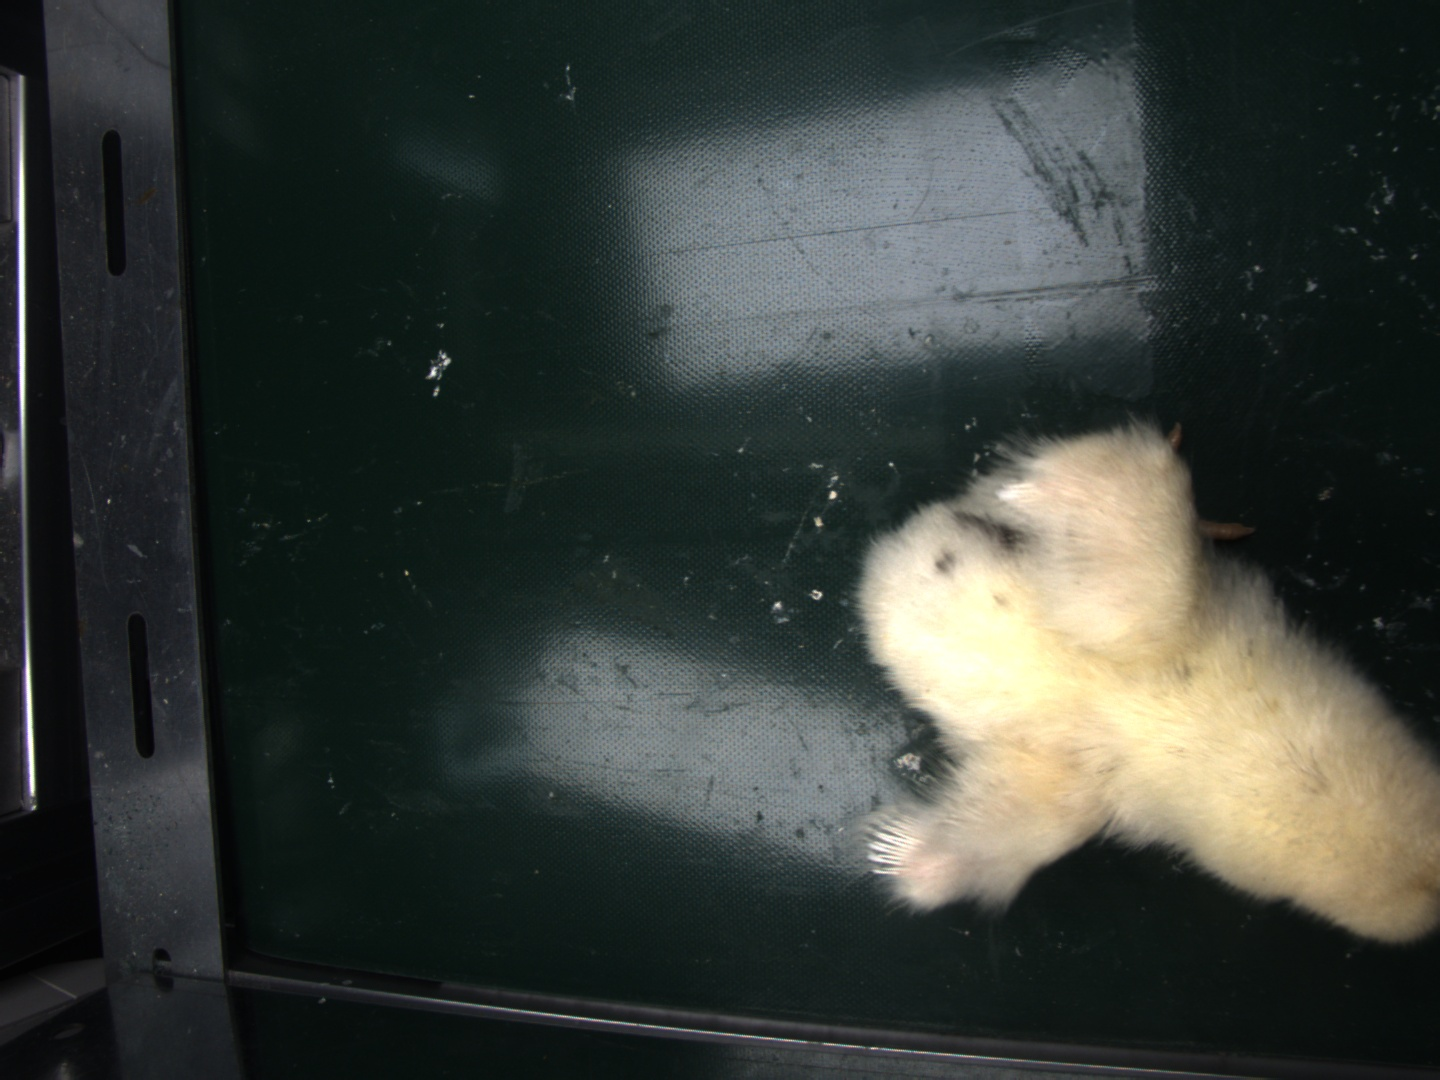male: (874, 815, 917, 875)
